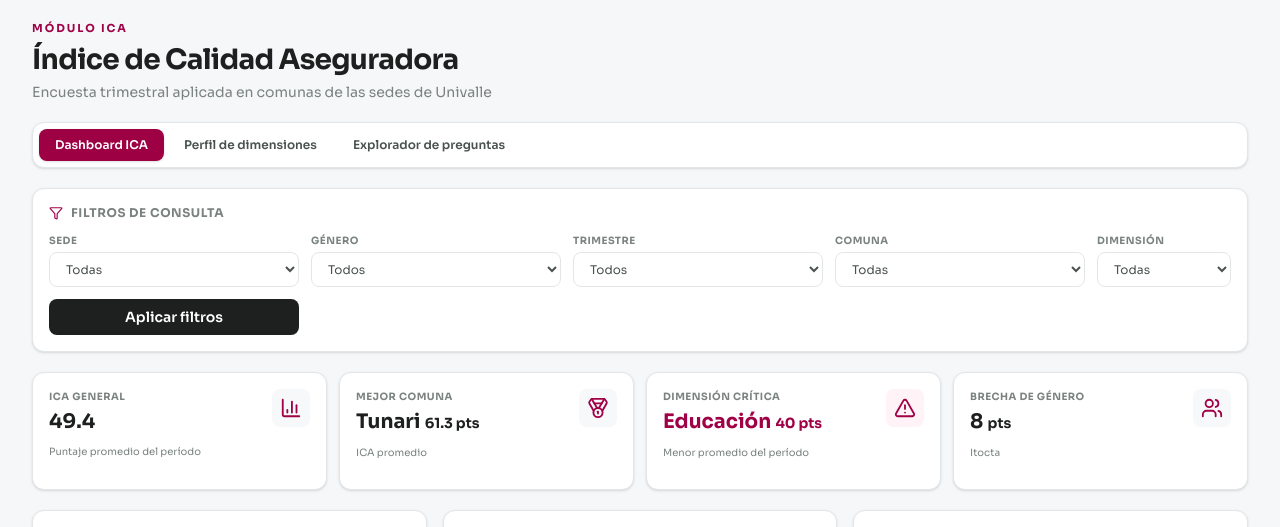
Test: ICAPage — visitante sin cuenta (dashboard público) › en el explorador de preguntas ve la distribución pero NO los botones de exportar respuestas
Click the button "Explorador de preguntas": click(429, 145) [337,129,521,161]
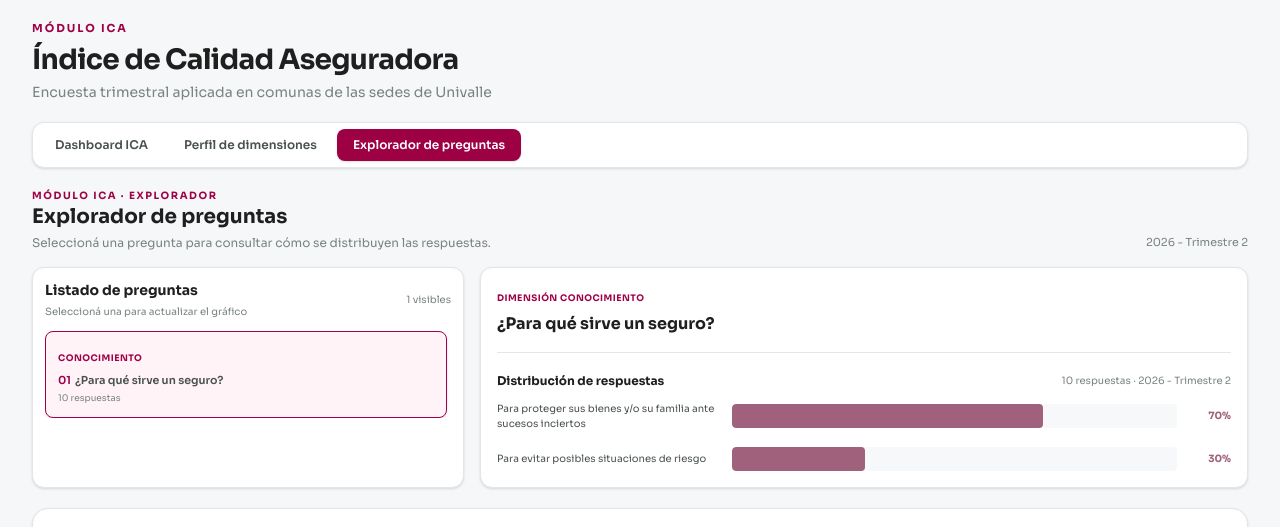
Result: the text "¿Para qué sirve un seguro?" is shown at [75,373,224,387]
Result: the text "70%" is shown at [1208,409,1231,422]
